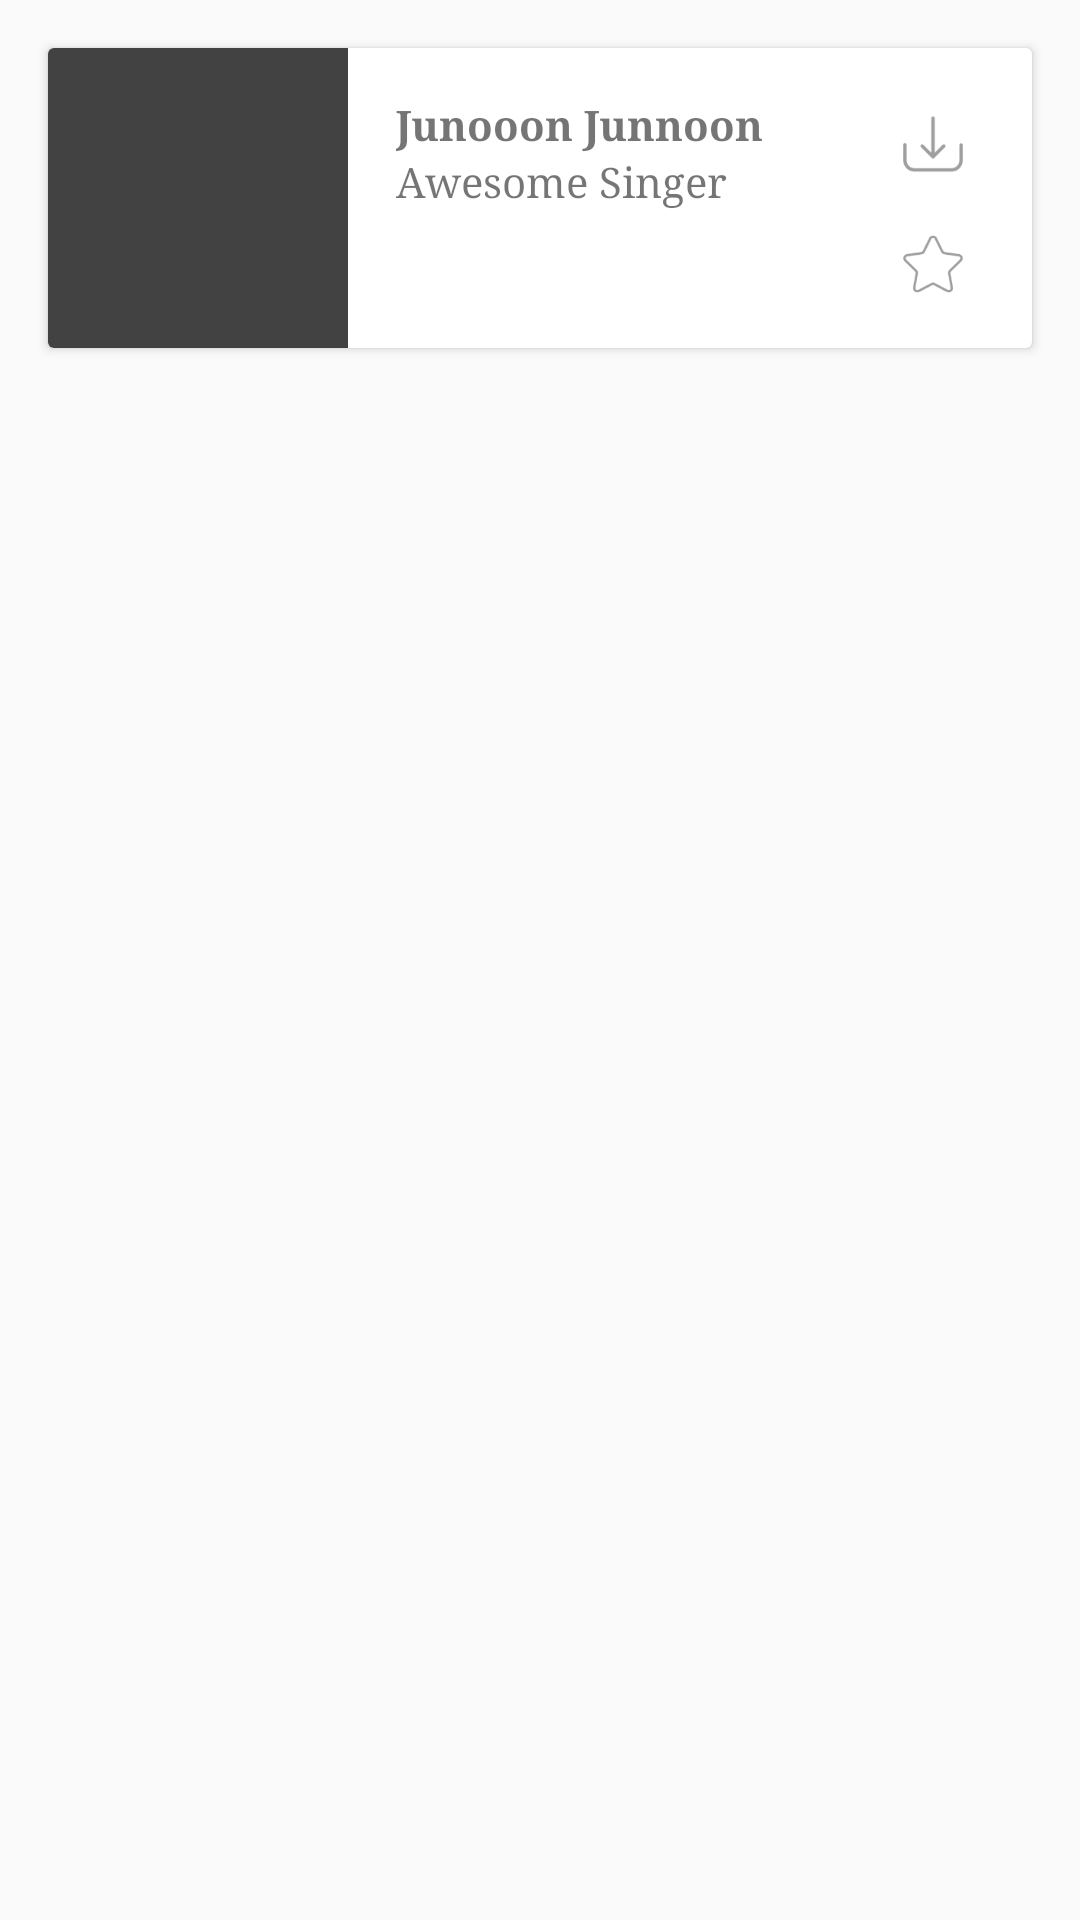

Icon bounding boxes for this 1080px x 1920px phone screenshot, format [x1,y1,x2,y2]:
download: [903,116,963,172]
star: [903,236,963,293]
